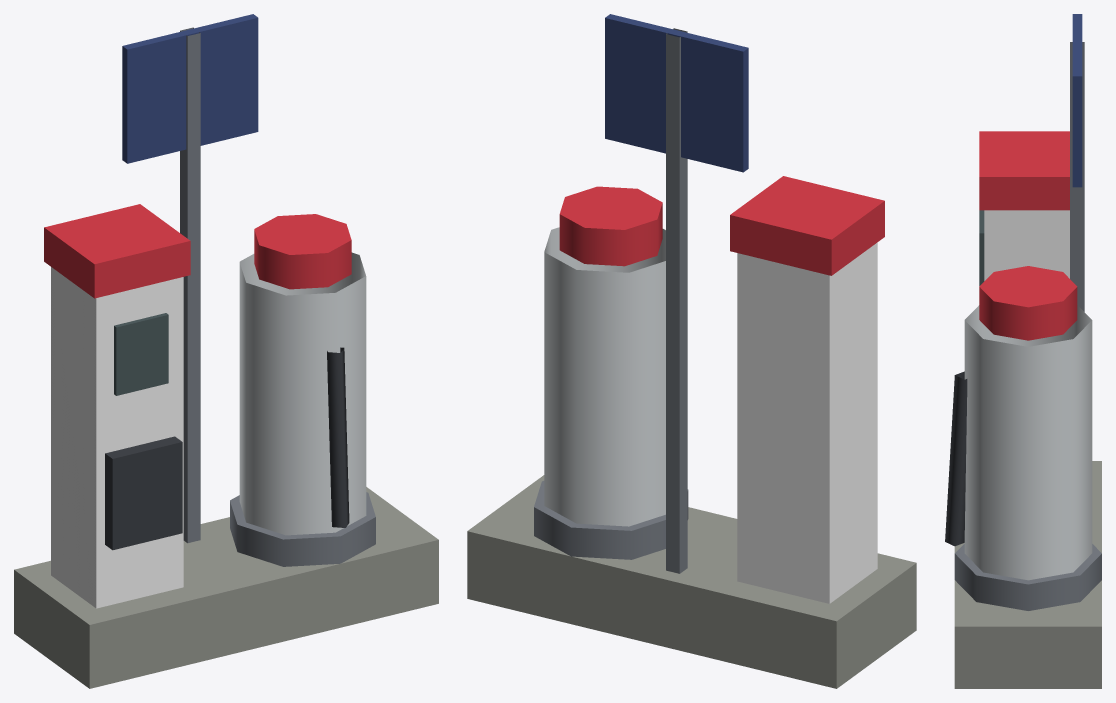
File: site_air.fbx
3 renders of one model, left to right at view 1: azimuth 30°, elevation 25°; view 2: azimuth 150°, elevation 25°; view 3: azimuth 270°, elevation 25°, orthographic. The views are drawn at different scales.
Parts seen in each view (by area): view 1: a1019/0/site_air; view 2: a1019/0/site_air; view 3: a1019/0/site_air.
Boxes of the visible parts, bbox=[...] form: a1019/0/site_air: bbox=[14, 14, 438, 688]; a1019/0/site_air: bbox=[467, 14, 916, 688]; a1019/0/site_air: bbox=[945, 14, 1101, 688].
Size of the model in its own units: 1.6 by 2.5 by 0.6399.
